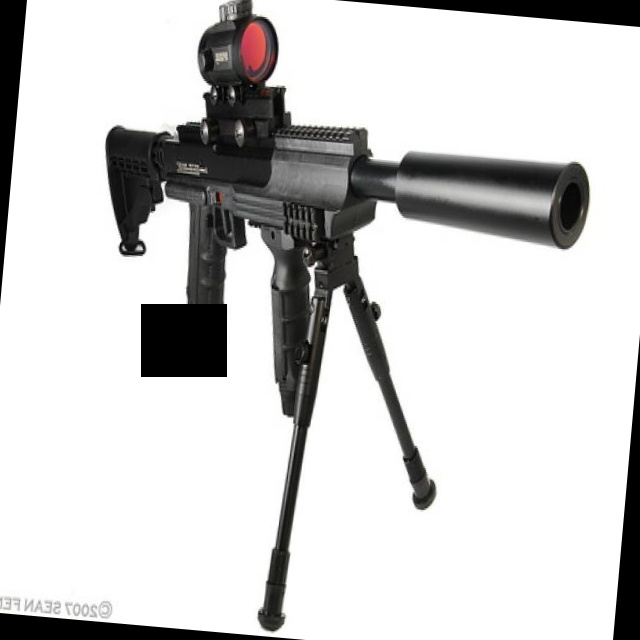gun: (54, 0, 610, 625)
